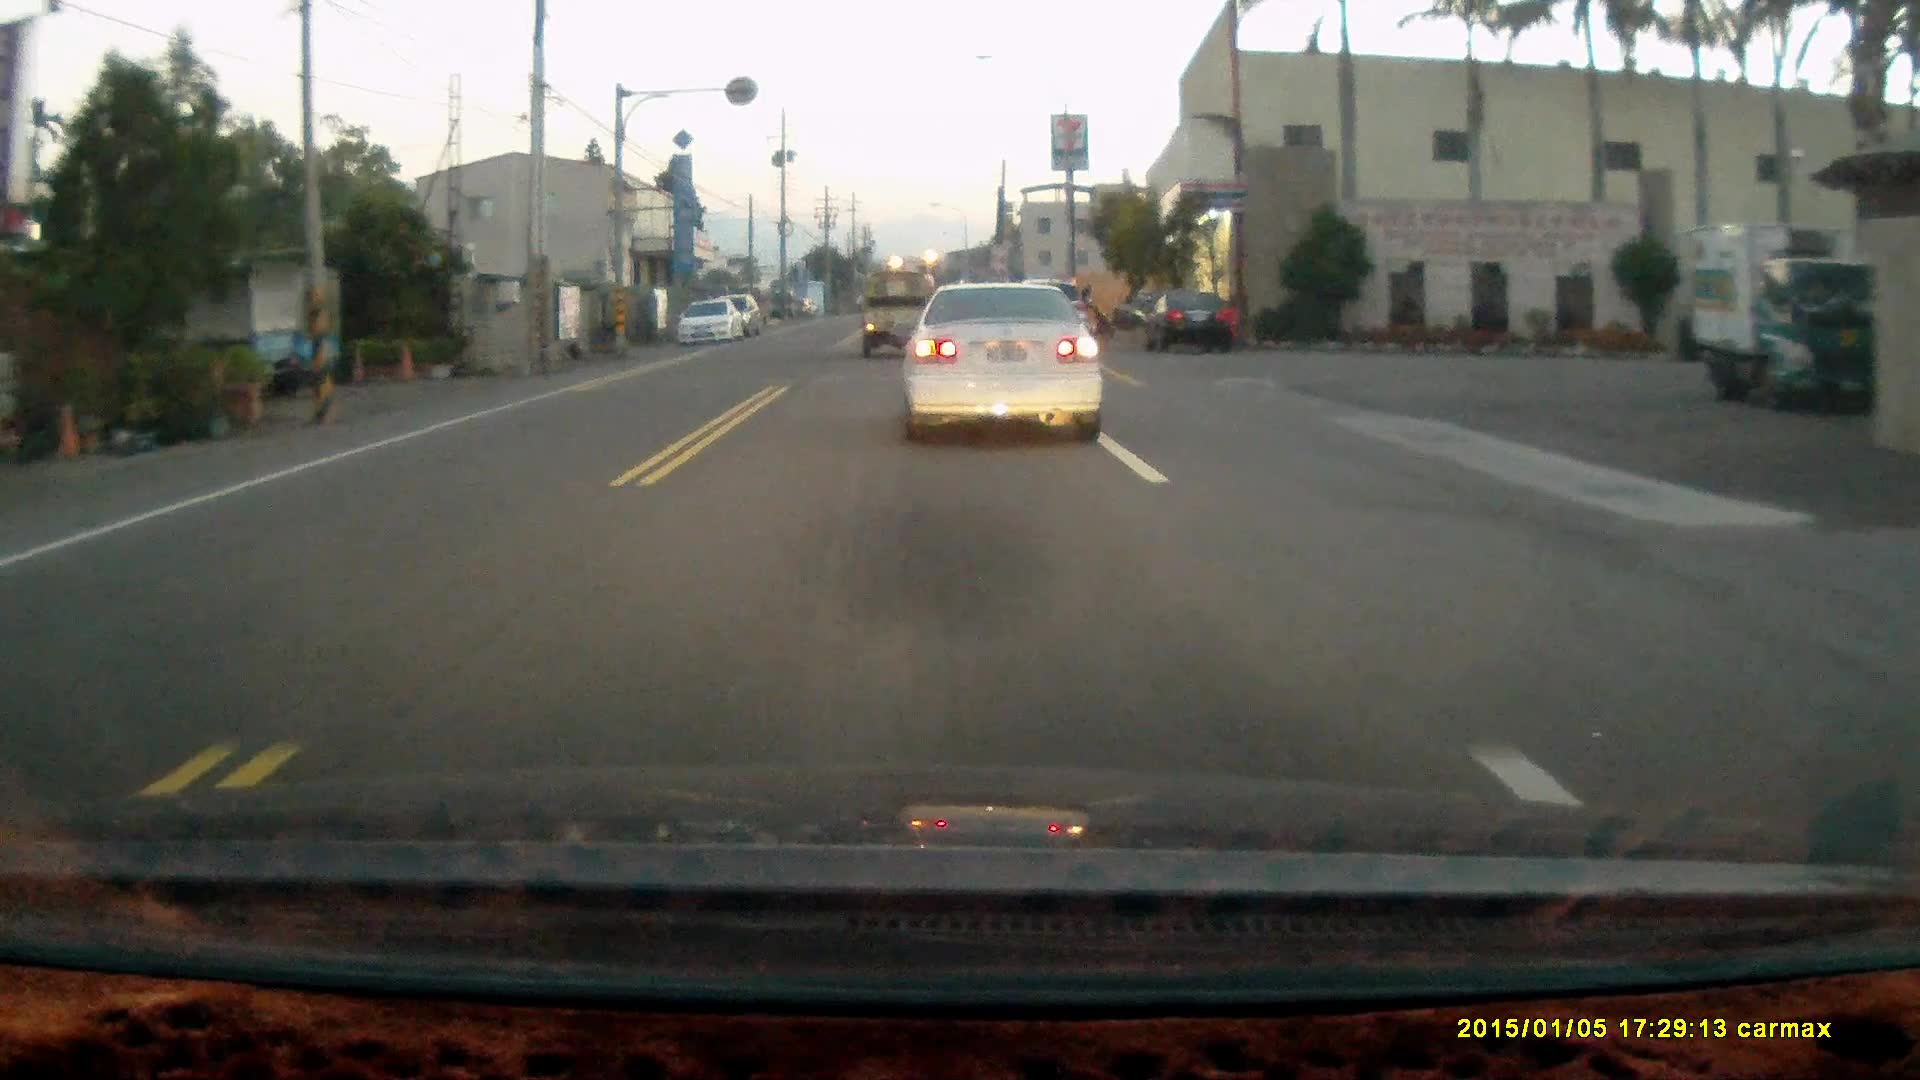vehicle: (903, 276, 1105, 452), (1687, 223, 1863, 411), (1135, 287, 1236, 353), (857, 266, 931, 353), (671, 295, 746, 347)
